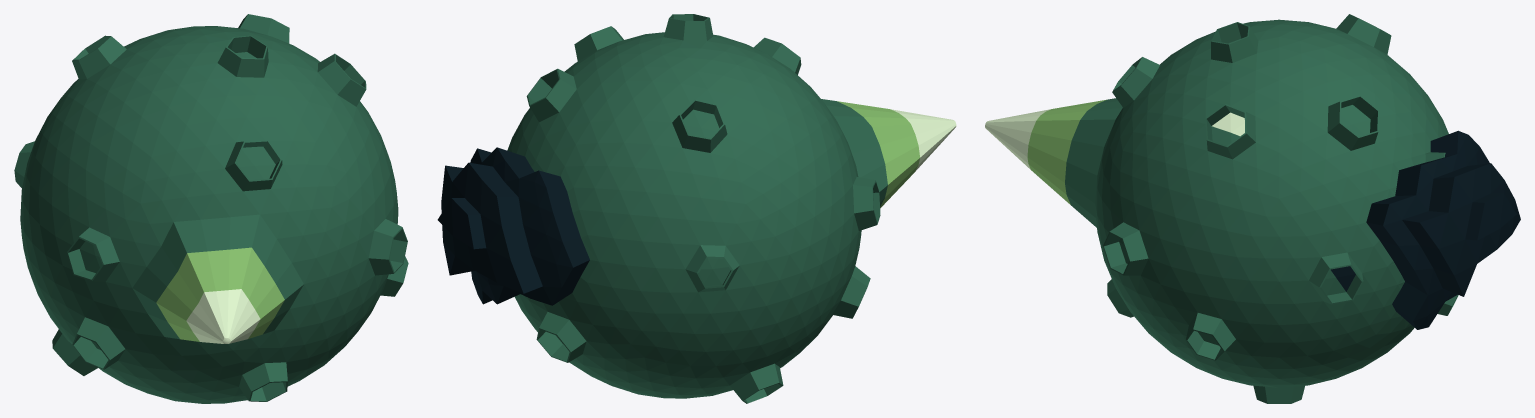
File: planets.fbx
The picture shows the model from 3 angles, left to right: view 1: azimuth 30°, elevation 25°; view 2: azimuth 150°, elevation 25°; view 3: azimuth 270°, elevation 25°; orthographic projection. The views are drawn at different scales.
Visible parts, largest first — view 1: Planet 01, Planet 02; view 2: Planet 01, Planet 02; view 3: Planet 01, Planet 02, Planet 00.
Boxes of the visible parts, x1,y1,x2,y2 form: Planet 01: (20, 26, 398, 403); Planet 02: (14, 14, 408, 401); Planet 01: (437, 32, 956, 398); Planet 02: (507, 14, 880, 403); Planet 01: (985, 19, 1520, 387); Planet 02: (1103, 14, 1458, 403); Planet 00: (1211, 112, 1355, 291).
Bounding box in the file's own units: 42.46 × 43.55 × 58.23.
1 material, 1 textured.
